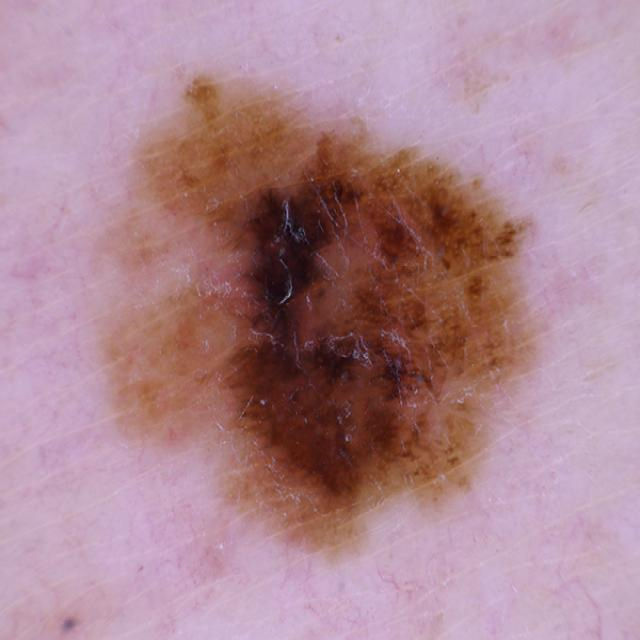MEL: (91, 68, 542, 565)
